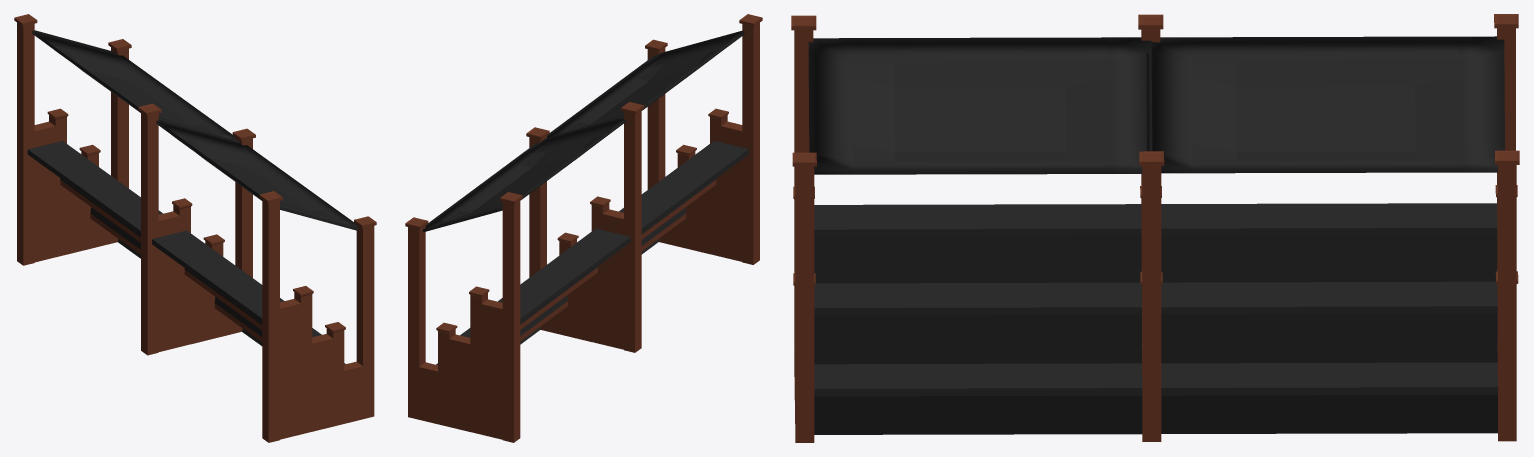
File: banco2C.fbx
3 views of the same model, side by side, from view 1: azimuth 30°, elevation 25°; view 2: azimuth 150°, elevation 25°; view 3: azimuth 270°, elevation 25° (orthographic). The views are drawn at different scales.
Visible parts, largest first — view 1: Cube.019; view 2: Cube.019; view 3: Cube.019.
Part boxes in pixels (x1,y1,x2,y2): Cube.019: [14, 14, 376, 442]; Cube.019: [405, 14, 762, 442]; Cube.019: [791, 14, 1519, 442].
Size of the model in its own units: 450 by 936 by 1756.
